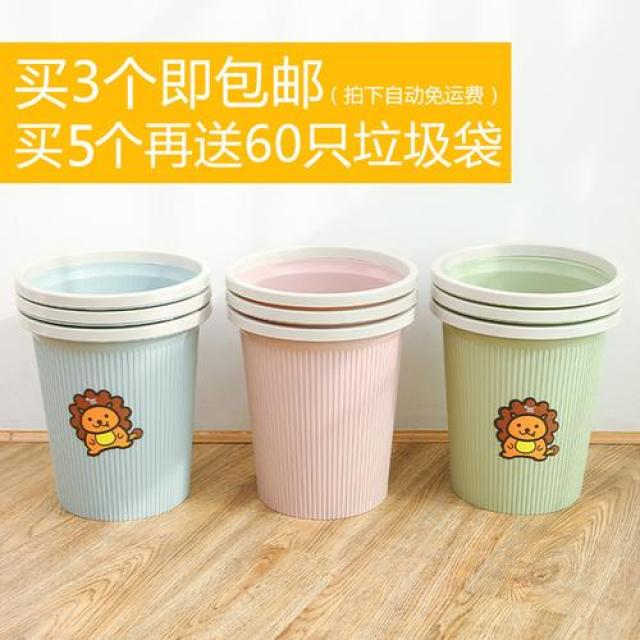dustbin: (13, 248, 218, 527), (222, 241, 421, 528)
